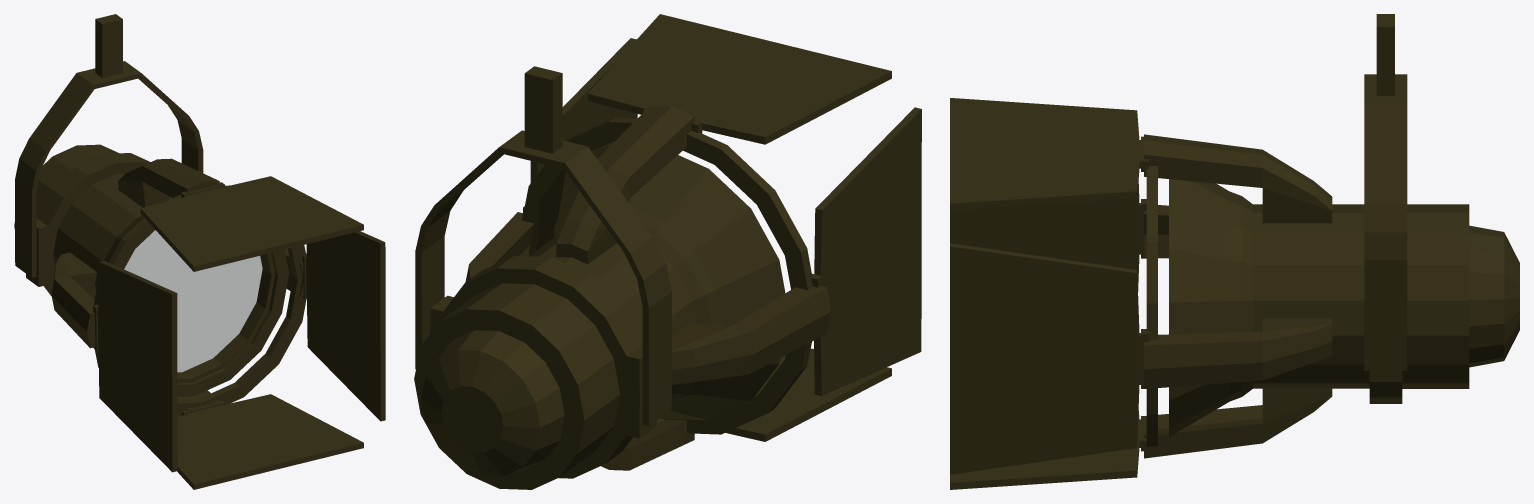
Rendered from Luz_escenario.fbx.
3 views of the same model, side by side, from view 1: azimuth 30°, elevation 25°; view 2: azimuth 150°, elevation 25°; view 3: azimuth 270°, elevation 25° (orthographic). The views are drawn at different scales.
Visible parts, largest first — view 1: LuzTecho; view 2: LuzTecho; view 3: LuzTecho.
Part boxes in pixels (left/top/right/bottom): LuzTecho: left=14, top=14, right=385, bottom=489; LuzTecho: left=414, top=14, right=921, bottom=489; LuzTecho: left=950, top=14, right=1519, bottom=489.
Bounding box in the file's own units: 113 × 157 × 187.
